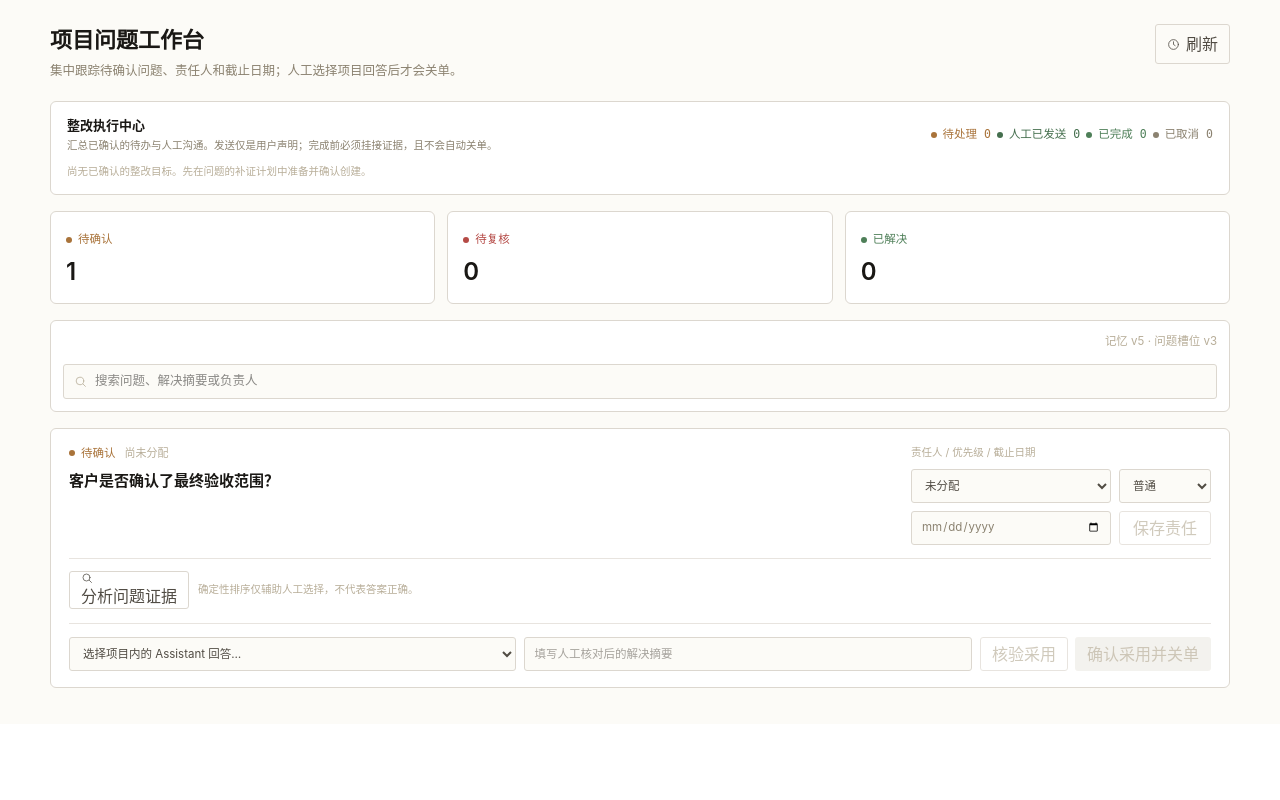
project question workbench › recalls current evidence, ranks answers, and keeps the user in control
Expected: the heading "客户是否确认了最终验收范围？" is shown, [69,471,279,490]
Click the button "分析问题证据" at (129, 590), box [69,570,189,608]
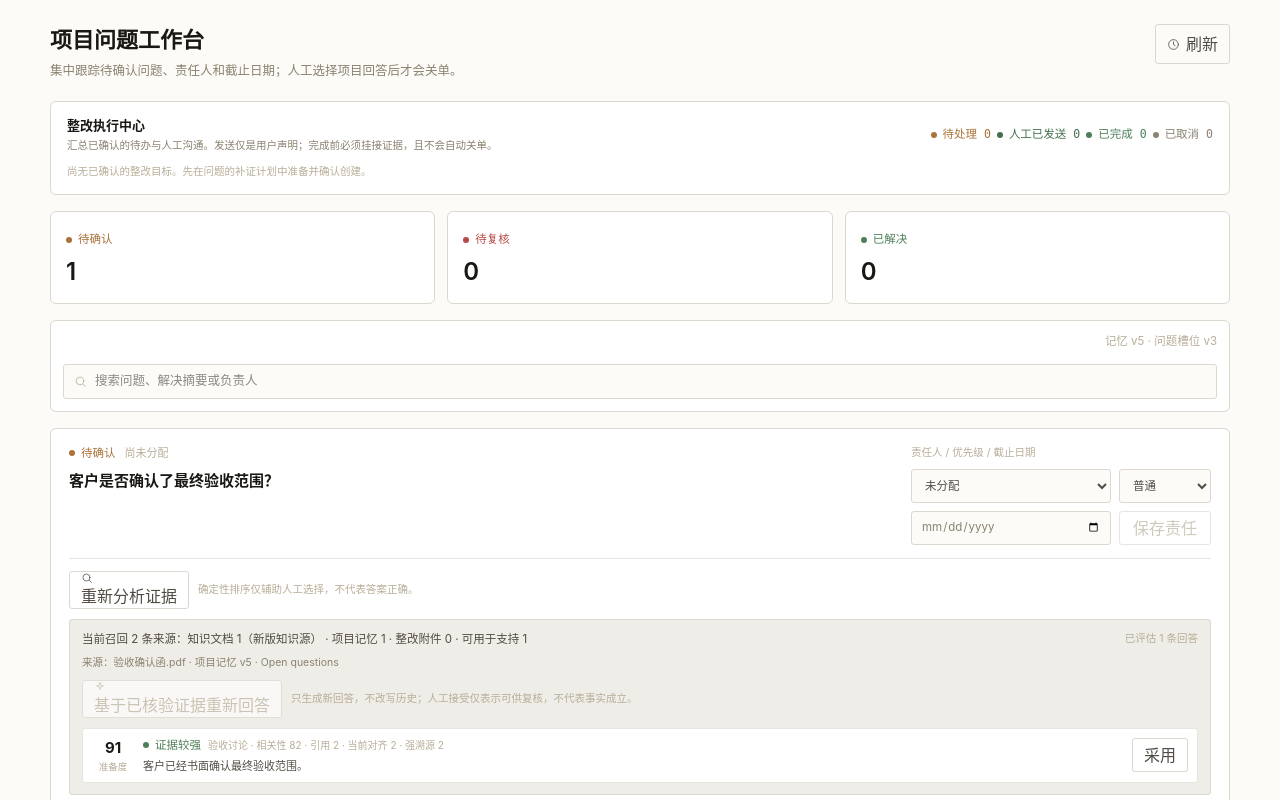
Now the element named "问题证据分析" is shown, box [69,618,1211,795]
Now the text "来源：验收确认函.pdf · 项目记忆 v5 · Open questions" is shown, box [82,656,339,669]
Now the text "当前召回 2 条来源：知识文档 1（新版知识源） · 项目记忆 1 · 整改附件 0 · 可用于支持 1" is shown, box [82,630,527,648]
Click the button with aria-label "采用回答 42" at (1160, 755), box [1132,738,1188,772]
(page scrolled)
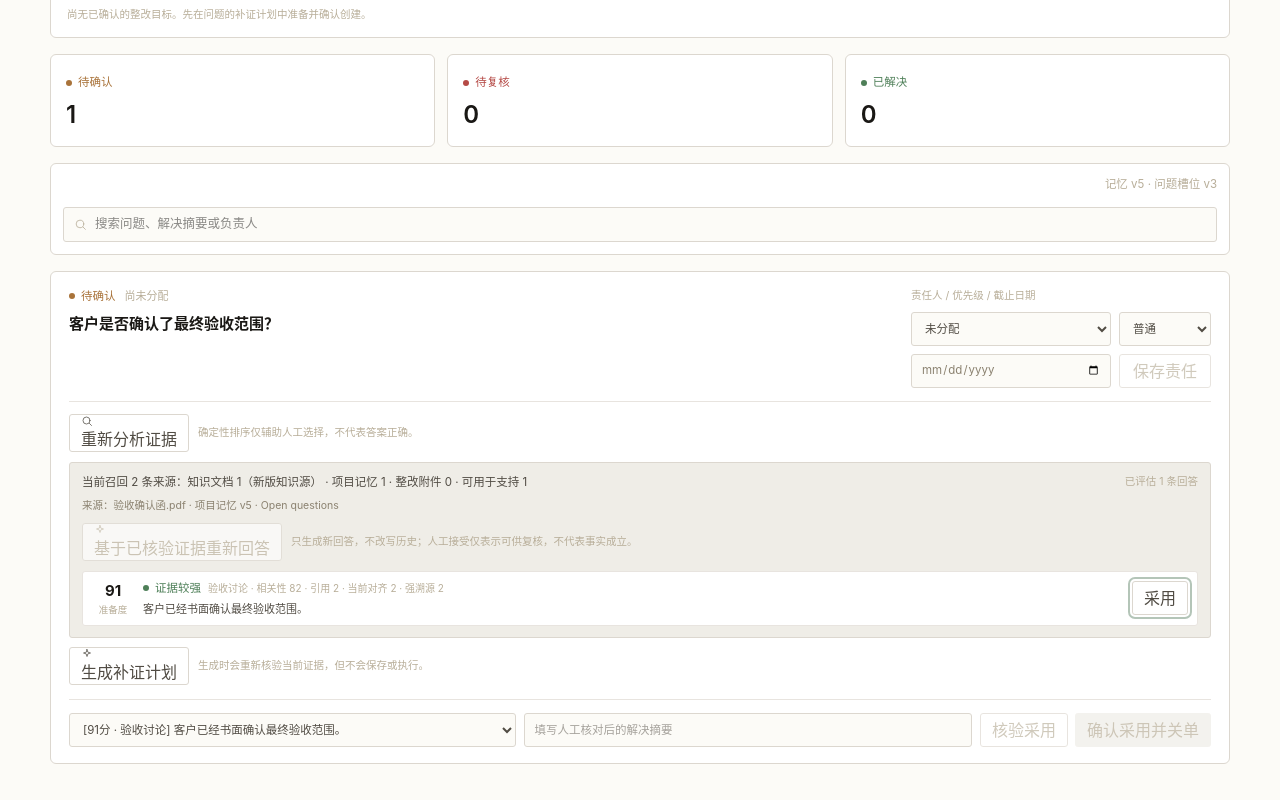
Now the dropdown named "选择解决问题的回答" shows "[91分 · 验收讨论] 客户已经书面确认最终验收范围。", box [69,713,516,747]
